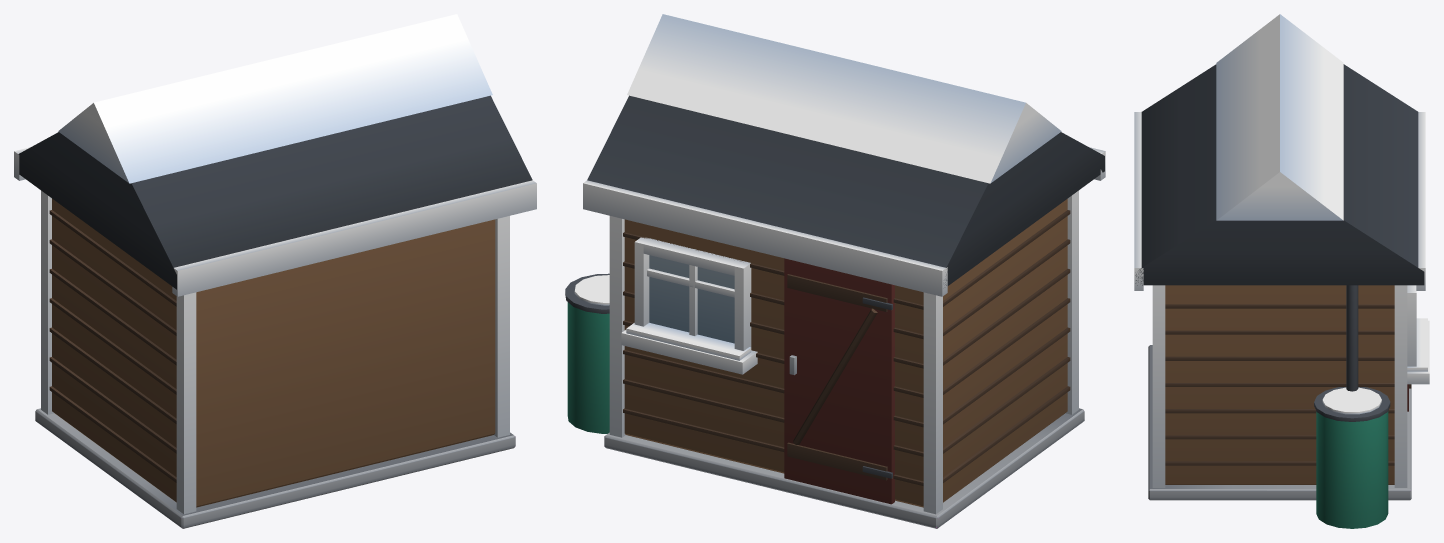
File: ck_garden_shed.fbx
3 renders of one model, left to right at view 1: azimuth 30°, elevation 25°; view 2: azimuth 150°, elevation 25°; view 3: azimuth 270°, elevation 25°, orthographic. The views are drawn at different scales.
Parts seen in each view (by area): view 1: ck_garden_shed; view 2: ck_garden_shed; view 3: ck_garden_shed.
Boxes of the visible parts, x1,y1,x2,y2 form: ck_garden_shed: [14, 14, 536, 528]; ck_garden_shed: [565, 14, 1105, 528]; ck_garden_shed: [1134, 14, 1429, 528].
Bounding box in the file's own units: 980 × 850 × 678.
